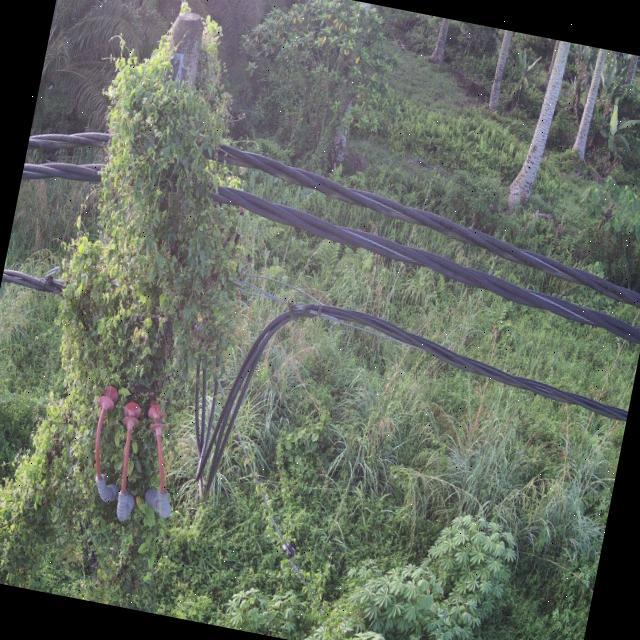critical vegetation: (12, 0, 297, 593)
